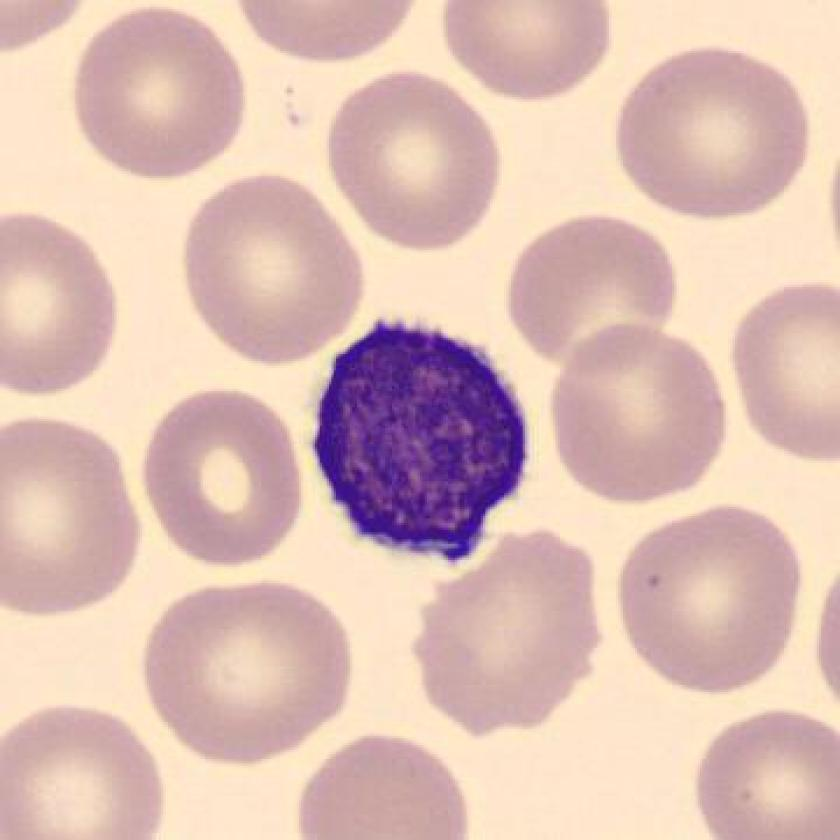lymphocyte: (290, 304, 547, 582)
